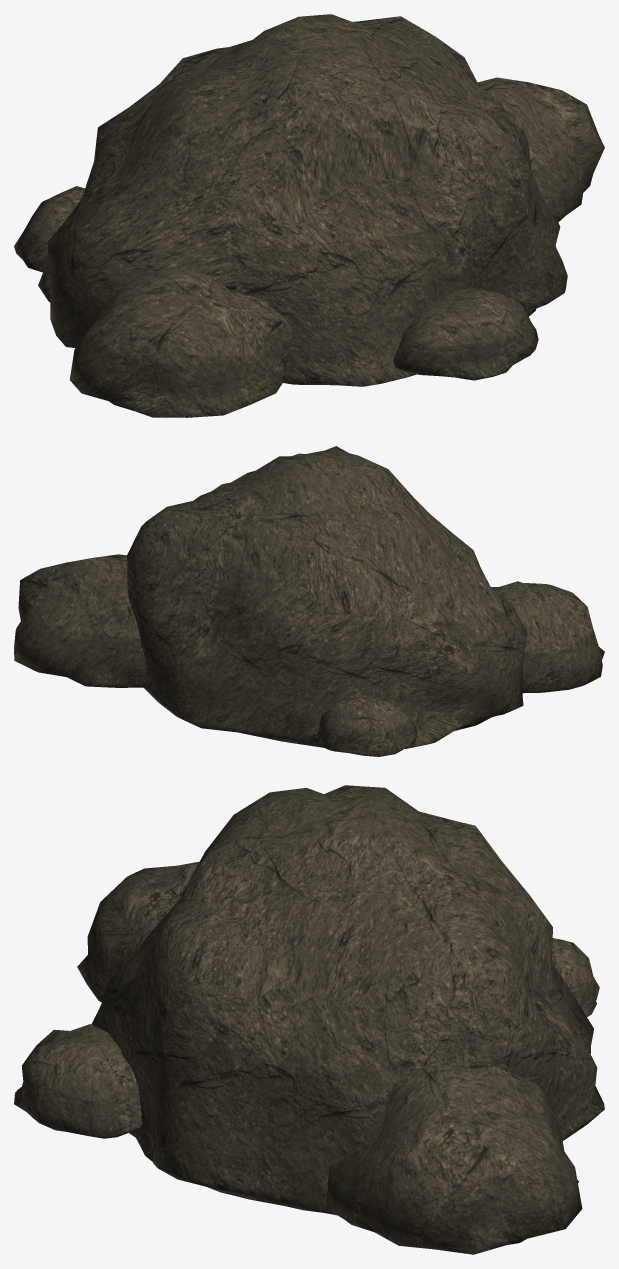
File: rock_large_01_real.gltf
3 renders of one model, top to bottom at view 1: azimuth 30°, elevation 25°; view 2: azimuth 150°, elevation 25°; view 3: azimuth 270°, elevation 25°, orthographic. The views are drawn at different scales.
Visible parts, largest first — view 1: rock_large_01; view 2: rock_large_01; view 3: rock_large_01.
Boxes of the visible parts, x1,y1,x2,y2 form: rock_large_01: (14, 14, 604, 417); rock_large_01: (14, 446, 604, 756); rock_large_01: (14, 785, 604, 1254).
Size of the model in its own units: 4.1 by 1.78 by 3.01.
Materials: 3 (3 with a texture image).
